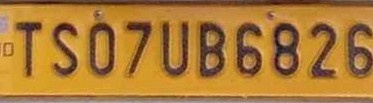character: (308, 22, 341, 80), (198, 18, 228, 79), (159, 19, 190, 76), (14, 18, 43, 77), (86, 20, 116, 77), (271, 21, 301, 78), (234, 21, 265, 76), (345, 20, 373, 80), (124, 20, 153, 77), (51, 21, 80, 77)
